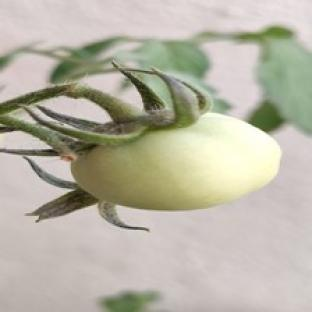Tomato: (72, 113, 281, 210)
